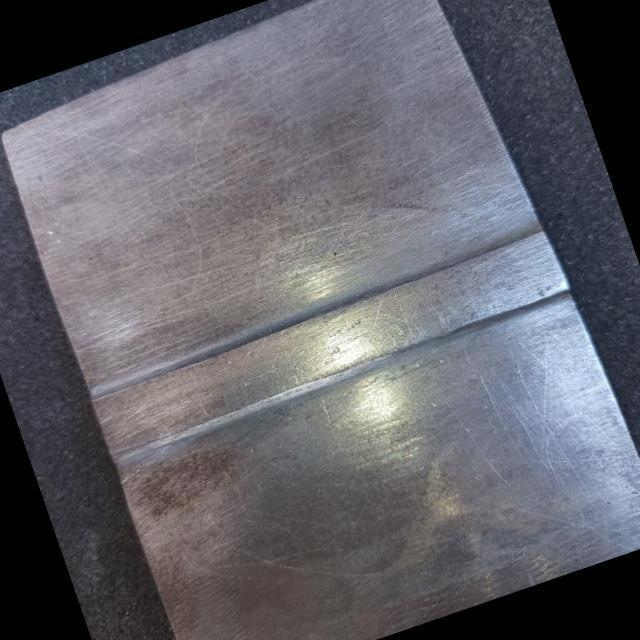defect: (237, 320, 400, 385)
